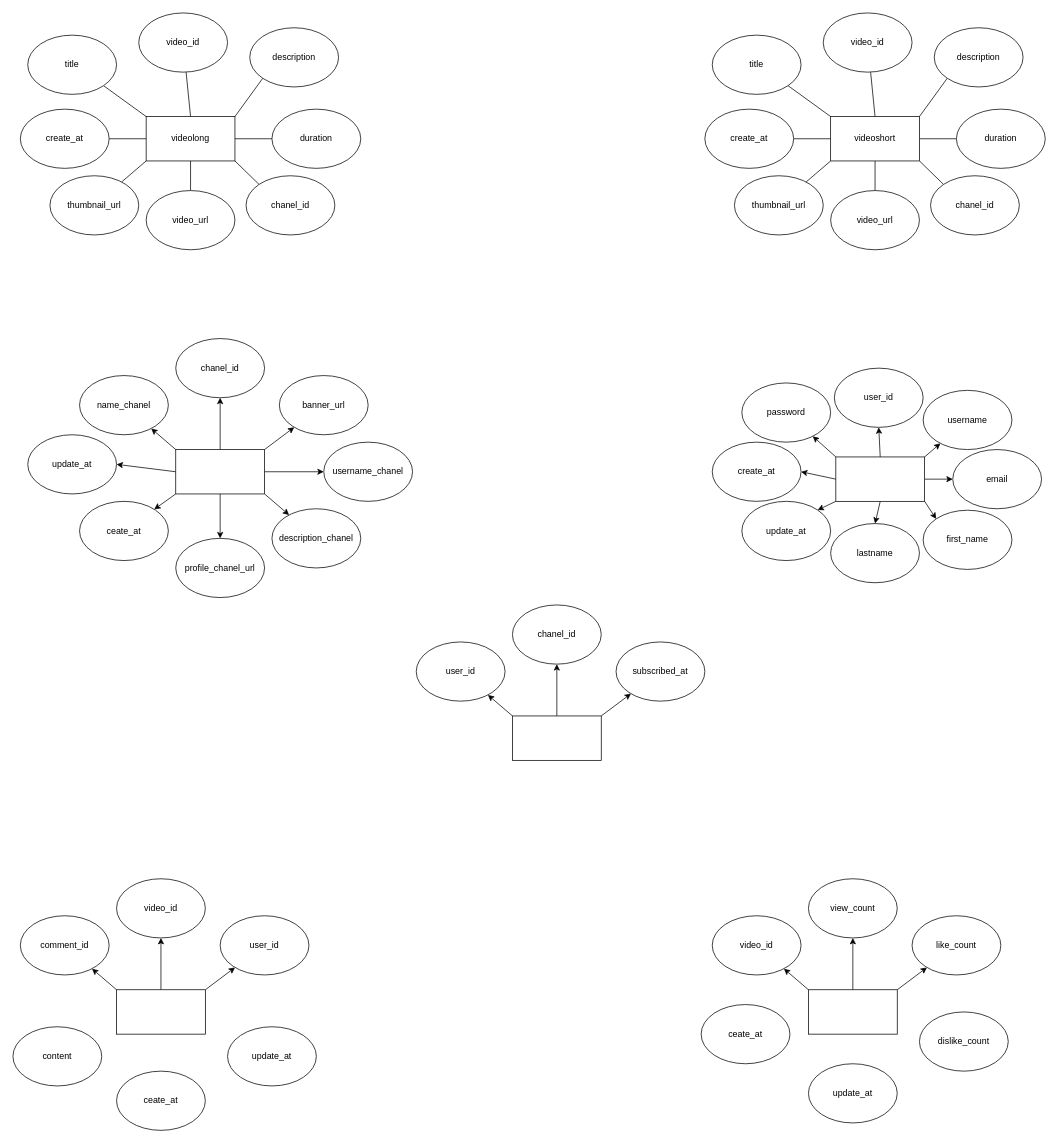
Image size: 1058x1143. Some labels were removed from this diagram. Here are the shapes that lost their labels. From the top down, the box of each, then its label:
(175, 449, 265, 494): chanel
(835, 456, 925, 501): user
(512, 715, 601, 760): chanel_subscribe
(116, 989, 205, 1034): comment
(808, 989, 897, 1034): poppular
